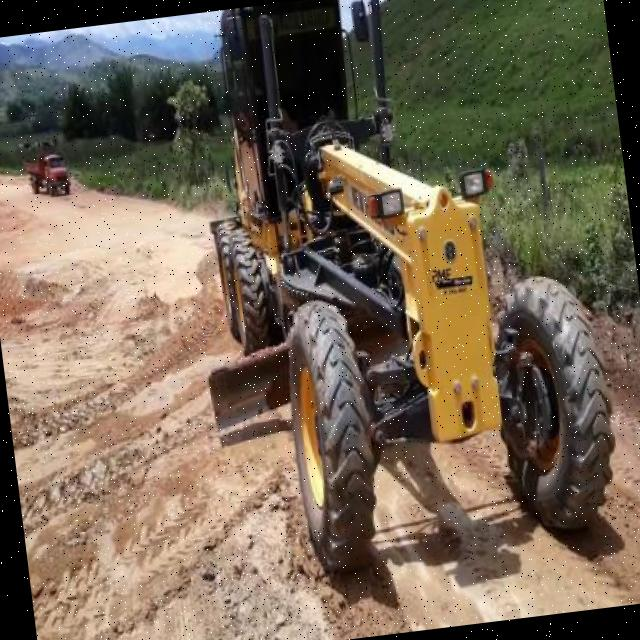Dump Truck: (18, 148, 70, 200)
Grader: (163, 0, 624, 589)
